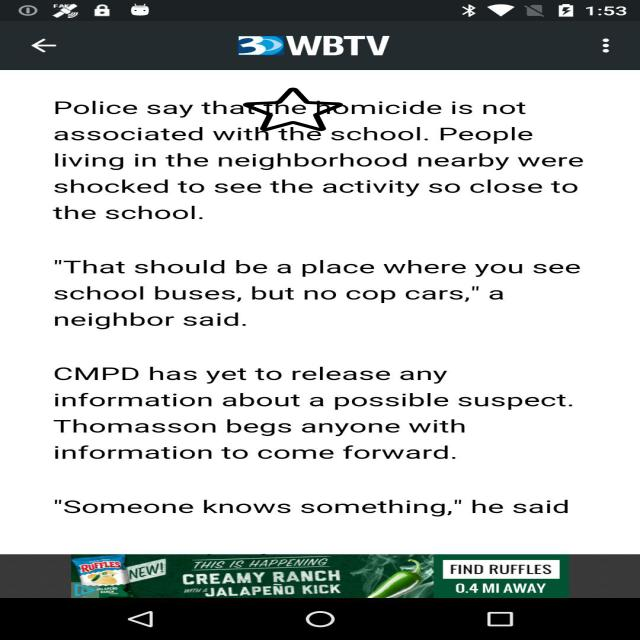forced continuity: (243, 87, 343, 132)
